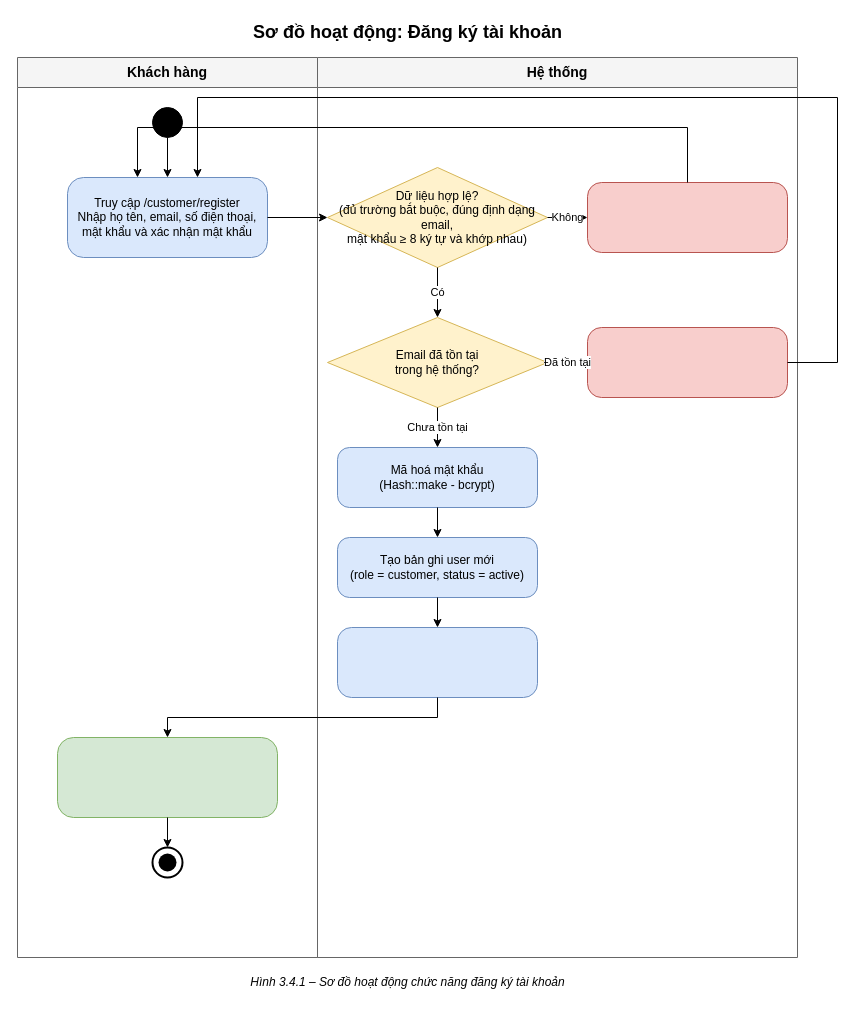
The diagram is 863 pixels wide and 1014 high, and some of its shapes have lost their labels. The centre of each missing label's shape, as x and y in pixels:
"Báo lỗi validate (thiếu trường / sai định dạng / mật khẩu xác nhận không khớp)" belongs at (x=687, y=217).
"Thông báo email đã được sử dụng Gợi ý đăng nhập hoặc quên mật khẩu" belongs at (x=687, y=362).
"Đăng ký thành công! Tự động chuyển hướng đến /customer/dashboard" belongs at (x=167, y=777).
"Đăng nhập tự động (Auth::login) Tạo session mới (login_context = customer)" belongs at (x=437, y=662).
